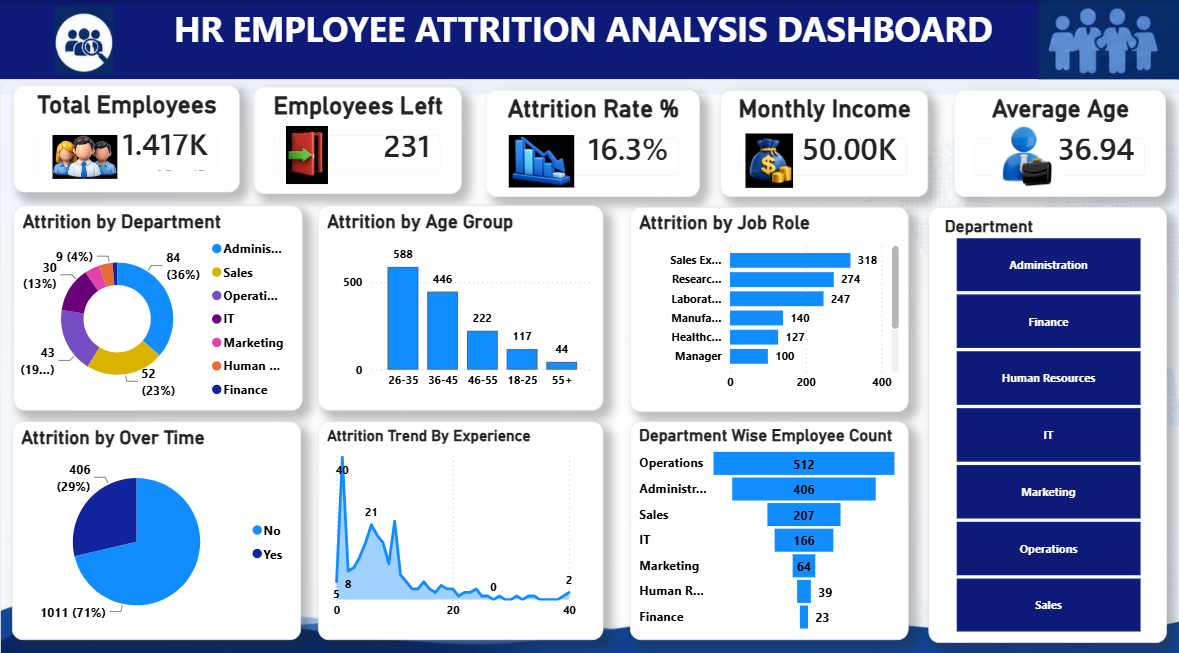

The dashboard page shown, as its layout file describes it:
{"tool":"powerbi","page":{"name":"Page 1","canvas":[1280,720],"ordinal":0},"visuals":[{"type":"textbox","box":[0,0,1259,85],"z":0},{"type":"image","box":[0,5.7,181.4,73.7],"z":1000},{"type":"image","box":[1118.9,0,161.9,85.8],"z":2000},{"type":"image","box":[0,85,1281.3,635],"z":3000},{"type":"cardVisual","title":"Employees Left","fields":{"Data":["Sum(HR_Analytics-4 (2).AttritionCount)"]},"box":[274,94.5,224.9,115.3],"z":4000},{"type":"cardVisual","title":"Total Employees","fields":{"Data":["CountNonNull(HR_Analytics-4 (2).EmpID)"]},"box":[15.1,92.6,243.8,115.3],"z":5000},{"type":"cardVisual","title":"Attrition Rate %","fields":{"Data":["HR_Analytics-4 (2).Attrition Rate %"]},"box":[525.4,96.4,230.6,115.3],"z":6000},{"type":"cardVisual","title":"Monthly Income","fields":{"Data":["Avg(HR_Analytics-4 (2).MonthlyIncome)"]},"box":[776.7,96.4,224.9,115.3],"z":7000},{"type":"cardVisual","title":"Average Age","fields":{"Data":["Avg(HR_Analytics-4 (2).Age)"]},"box":[1029.9,96.4,228.7,115.3],"z":8000},{"type":"image","box":[56.7,54.8,69.9,228.7],"z":9000},{"type":"image","box":[538.6,145.5,90.7,56.7],"z":10000},{"type":"image","box":[181.4,136.1,300.5,62.4],"z":11000},{"type":"image","box":[680.3,143.6,300.5,58.6],"z":12000},{"type":"image","box":[958.1,136.1,300.5,66.1],"z":13000},{"type":"donutChart","title":"Attrition by Department","fields":{"Category":["HR_Analytics-4 (2).Department"],"Y":["Sum(HR_Analytics-4 (2).AttritionCount)"]},"box":[15.1,221.1,311.8,221.1],"z":14000},{"type":"columnChart","title":"Attrition by Age Group","fields":{"Category":["HR_Analytics-4 (2).AgeGroup"],"Y":["CountNonNull(HR_Analytics-4 (2).Attrition)"]},"box":[343.9,221.1,308,221.1],"z":15000},{"type":"clusteredBarChart","title":"Attrition by Job Role","fields":{"Category":["HR_Analytics-4 (2).JobRole"],"Y":["CountNonNull(HR_Analytics-4 (2).Attrition)"]},"box":[680.3,223,300.5,221.1],"z":16000},{"type":"pieChart","title":"Attrition by Over Time","fields":{"Y":["CountNonNull(HR_Analytics-4 (2).Attrition)"],"Category":["HR_Analytics-4 (2).OverTime"]},"box":[13.2,455.4,311.8,236.2],"z":17000},{"type":"areaChart","title":"Attrition Trend  By Experience","fields":{"Category":["HR_Analytics-4 (2).TotalExperience(Years)"],"Y2":["Sum(HR_Analytics-4 (2).AttritionCount)"]},"box":[343.9,455.4,308,236.2],"z":18000},{"type":"funnel","title":"Department Wise Employee Count","fields":{"Category":["HR_Analytics-4 (2).Department"],"Y":["CountNonNull(HR_Analytics-4 (2).EmpID)"]},"box":[680.3,455.4,300.5,236.2],"z":19000},{"type":"slicer","fields":{"Values":["HR_Analytics-4 (2).Department"]},"box":[1001.6,223,257,470.6],"z":20000}]}

Visuals, with their boxes in screenshot pixels (x1, y1, x2, y2), scaled from the page's 1280x720 canvas onto the 1179x653 screenshot:
textbox: select_region(0, 0, 1160, 77)
image: select_region(0, 5, 167, 72)
image: select_region(1031, 0, 1178, 78)
image: select_region(0, 77, 1178, 652)
"Employees Left" cardVisual: select_region(252, 86, 460, 190)
"Total Employees" cardVisual: select_region(14, 84, 238, 189)
"Attrition Rate %" cardVisual: select_region(484, 87, 696, 192)
"Monthly Income" cardVisual: select_region(715, 87, 923, 192)
"Average Age" cardVisual: select_region(949, 87, 1159, 192)
image: select_region(52, 50, 117, 257)
image: select_region(496, 132, 580, 183)
image: select_region(167, 123, 444, 180)
image: select_region(627, 130, 903, 183)
image: select_region(882, 123, 1159, 183)
"Attrition by Department" donutChart: select_region(14, 201, 301, 401)
"Attrition by Age Group" columnChart: select_region(317, 201, 600, 401)
"Attrition by Job Role" clusteredBarChart: select_region(627, 202, 903, 403)
"Attrition by Over Time" pieChart: select_region(12, 413, 299, 627)
"Attrition Trend  By Experience" areaChart: select_region(317, 413, 600, 627)
"Department Wise Employee Count" funnel: select_region(627, 413, 903, 627)
slicer - HR_Analytics-4 (2).Department: select_region(923, 202, 1159, 629)
